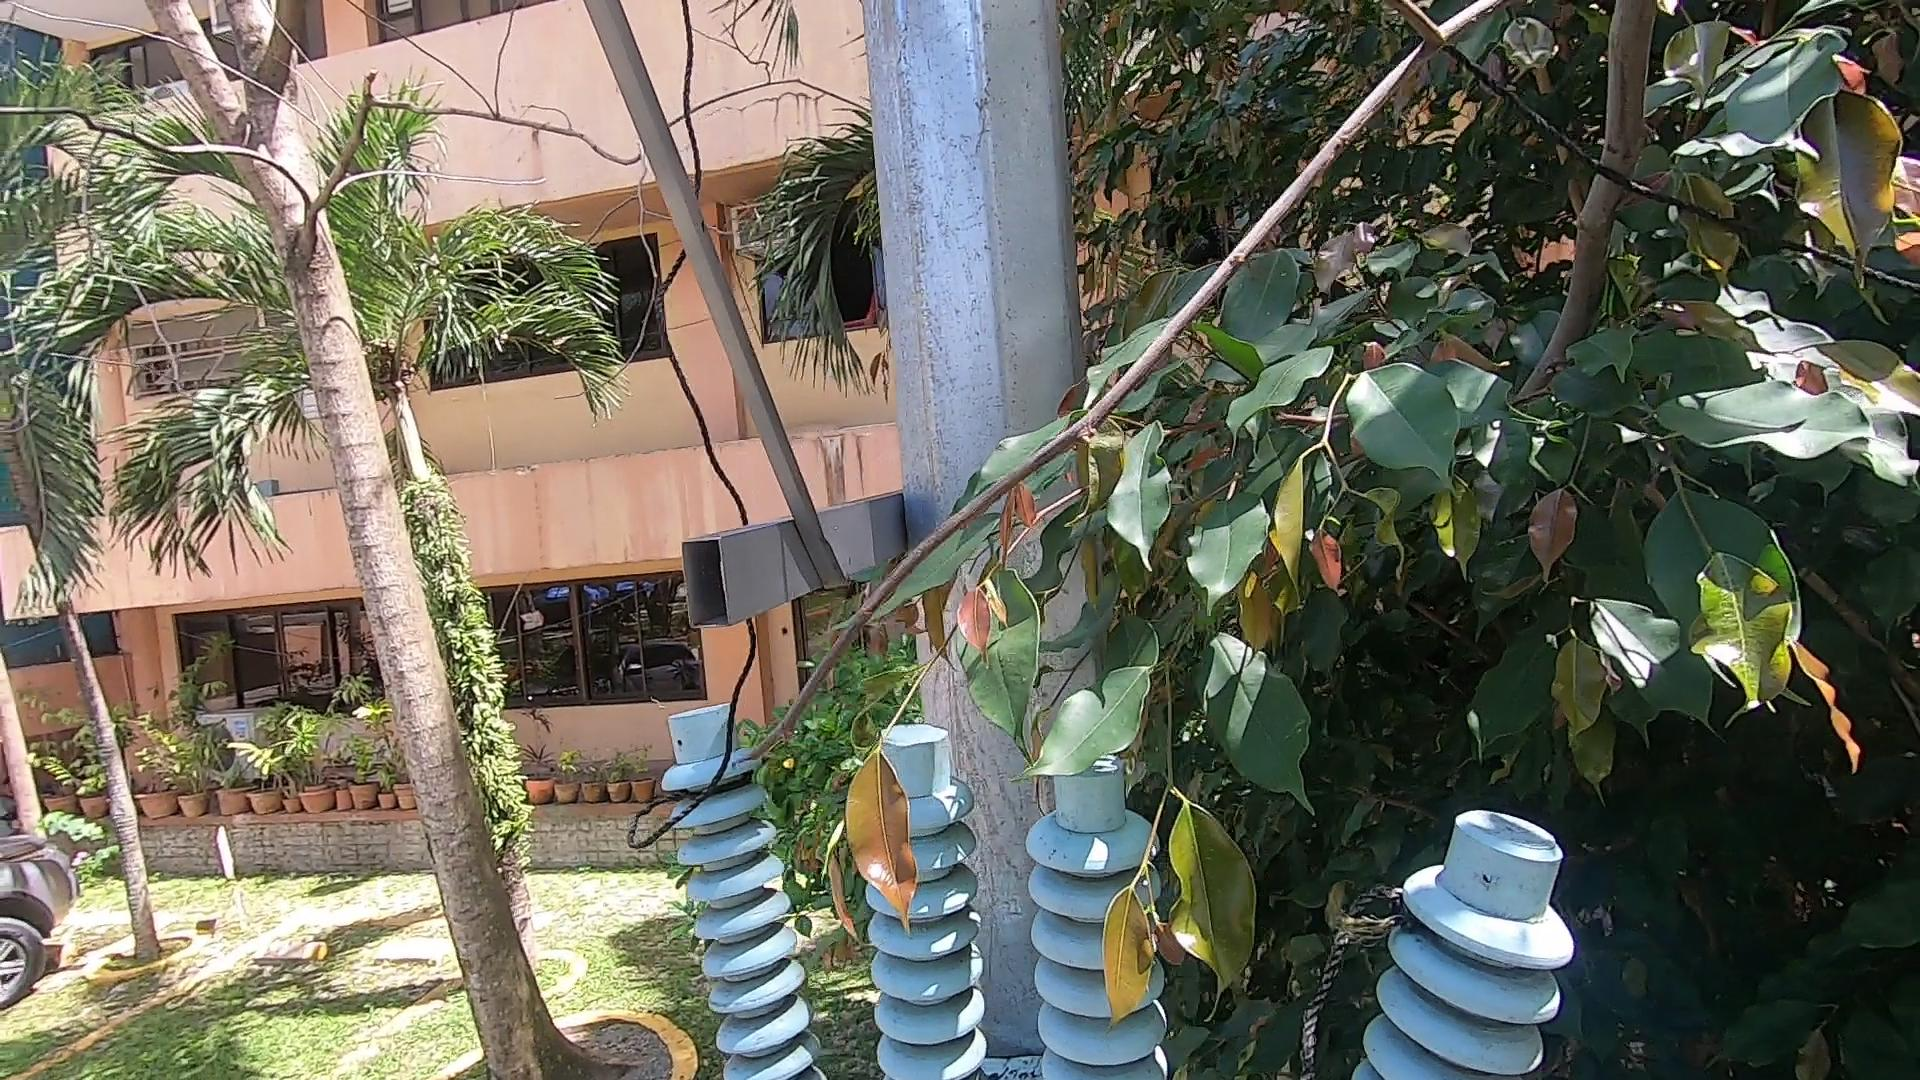tree branch: (744, 1, 1727, 777)
